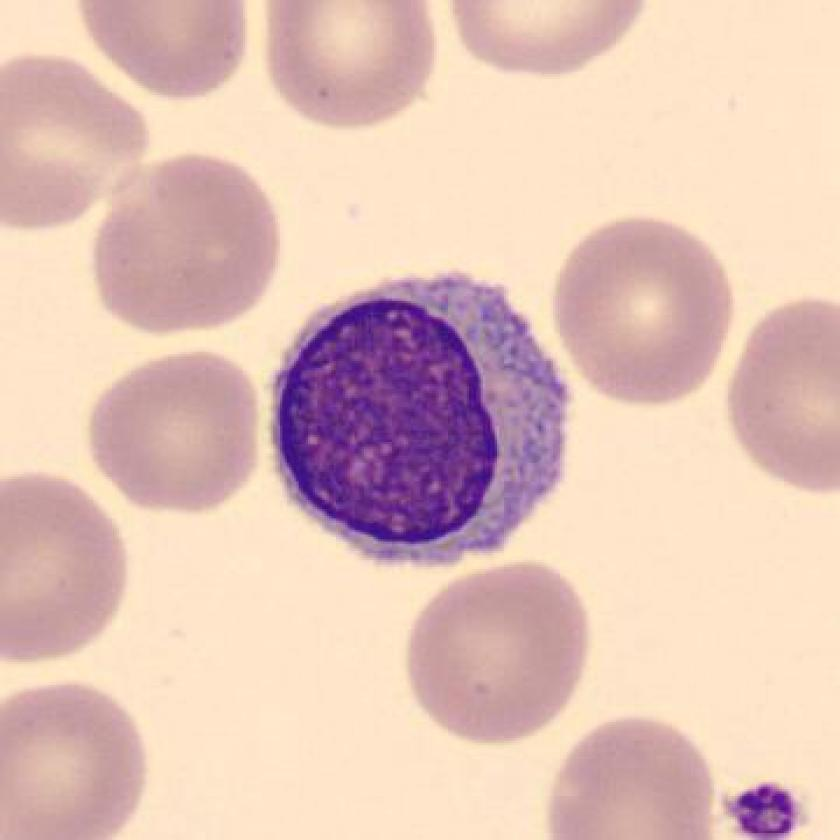lymphocyte: (255, 260, 589, 577)
